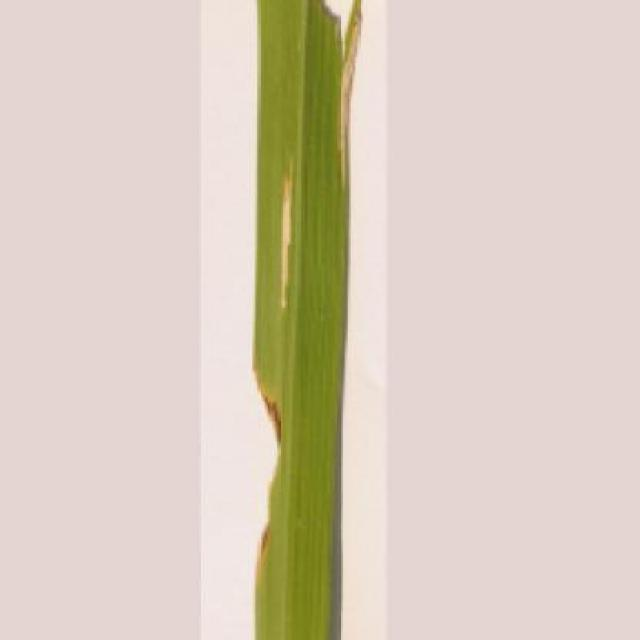Brown_Spot: (249, 0, 366, 640)
